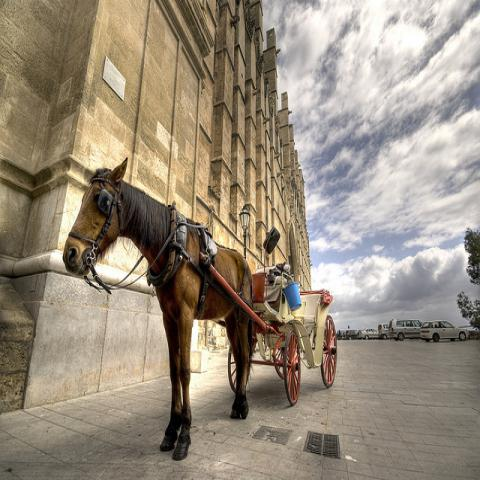car: (420, 320, 469, 342), (388, 319, 422, 342), (358, 328, 379, 340), (378, 324, 390, 340), (336, 330, 346, 340), (346, 330, 358, 336)
